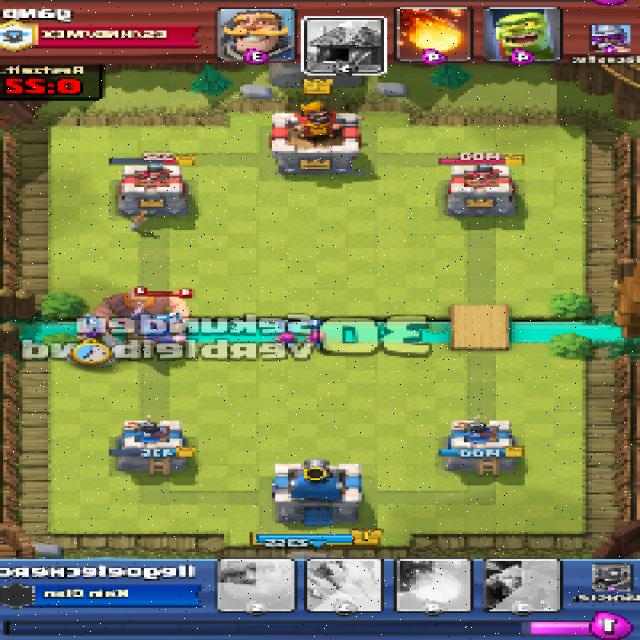Enemy-Giant: (90, 291, 192, 331)
Player-Archer: (272, 333, 305, 357), (306, 331, 332, 352)
Player-Knight: (144, 317, 188, 350)
Player-Musketeer: (74, 324, 121, 355)
